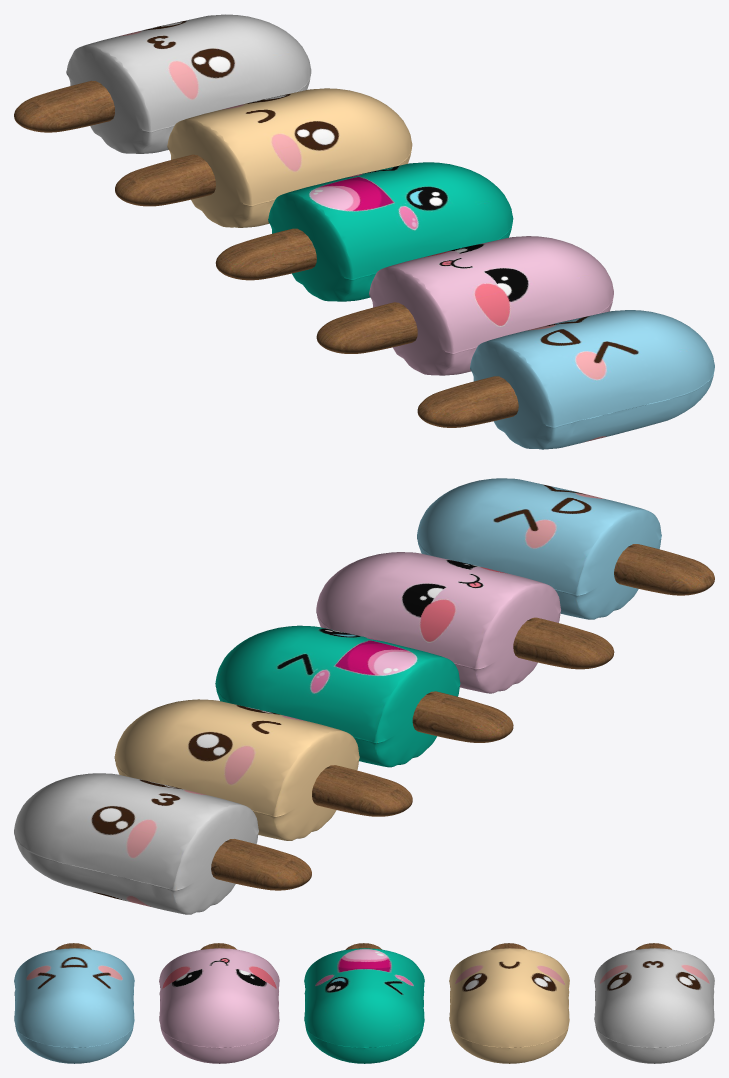
File: Ice Cream Pillows.fbx
3 renders of one model, top to bottom at view 1: azimuth 30°, elevation 25°; view 2: azimuth 150°, elevation 25°; view 3: azimuth 270°, elevation 25°, orthographic. The views are drawn at different scales.
Parts seen in each view (by area): view 1: blue, cream, white, mint, pink; view 2: white, blue, mint, cream, pink; view 3: pink, blue, mint, white, cream.
Part boxes in pixels (x1,y1,x2,y2): blue: (417,310,714,449); cream: (115,88,412,227); white: (14,14,311,153); mint: (215,162,513,301); pink: (316,236,613,375); white: (14,773,311,914); blue: (417,478,714,619); mint: (215,625,513,767); cream: (114,699,412,840); pink: (316,552,614,693); pink: (159,943,279,1063); blue: (14,943,134,1063); mint: (304,943,424,1063); white: (594,943,714,1063); cream: (449,943,569,1063).
Bounding box in the file's own units: 32.54 × 10.53 × 96.67.
